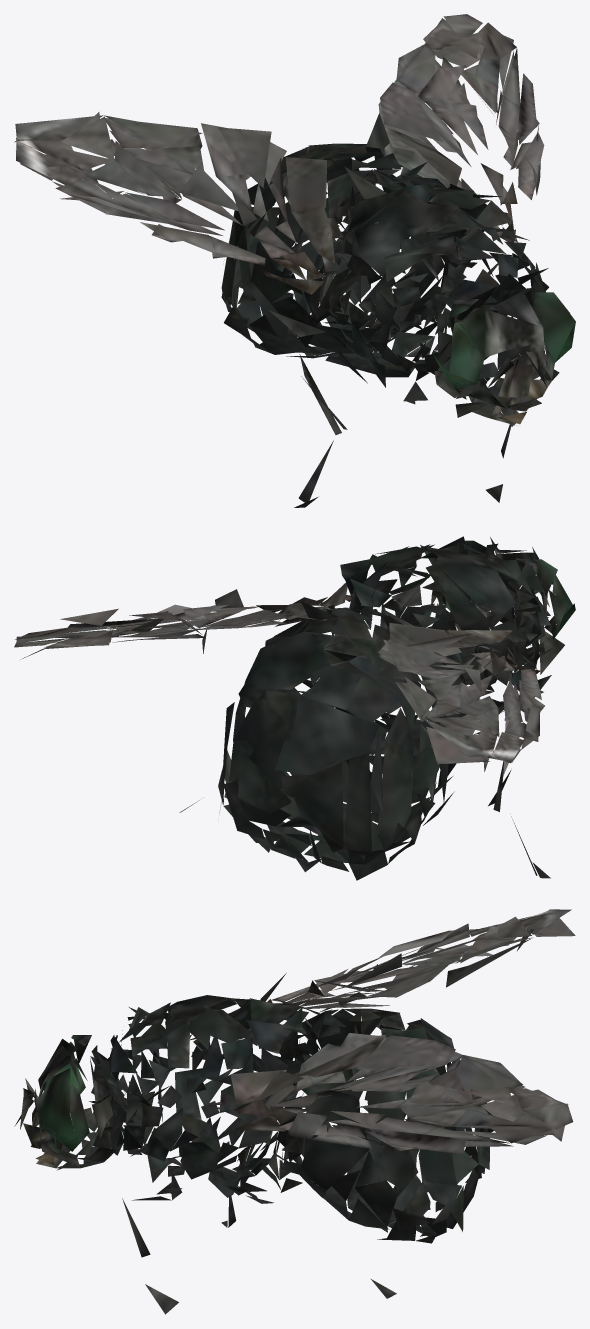
Rendered from fly.glb.
3 views of the same model, one above another, from view 1: azimuth 30°, elevation 25°; view 2: azimuth 150°, elevation 25°; view 3: azimuth 270°, elevation 25° (orthographic). The views are drawn at different scales.
Parts seen in each view (by area): view 1: Mesh_0; view 2: Mesh_0; view 3: Mesh_0.
Part boxes in pixels (x1=…): Mesh_0: x1=14, y1=14, x2=575, y2=507; Mesh_0: x1=14, y1=536, x2=575, y2=880; Mesh_0: x1=14, y1=909, x2=575, y2=1314.
Size of the model in its own units: 0.0434 by 0.0262 by 0.0446.
1 material, 1 textured.
